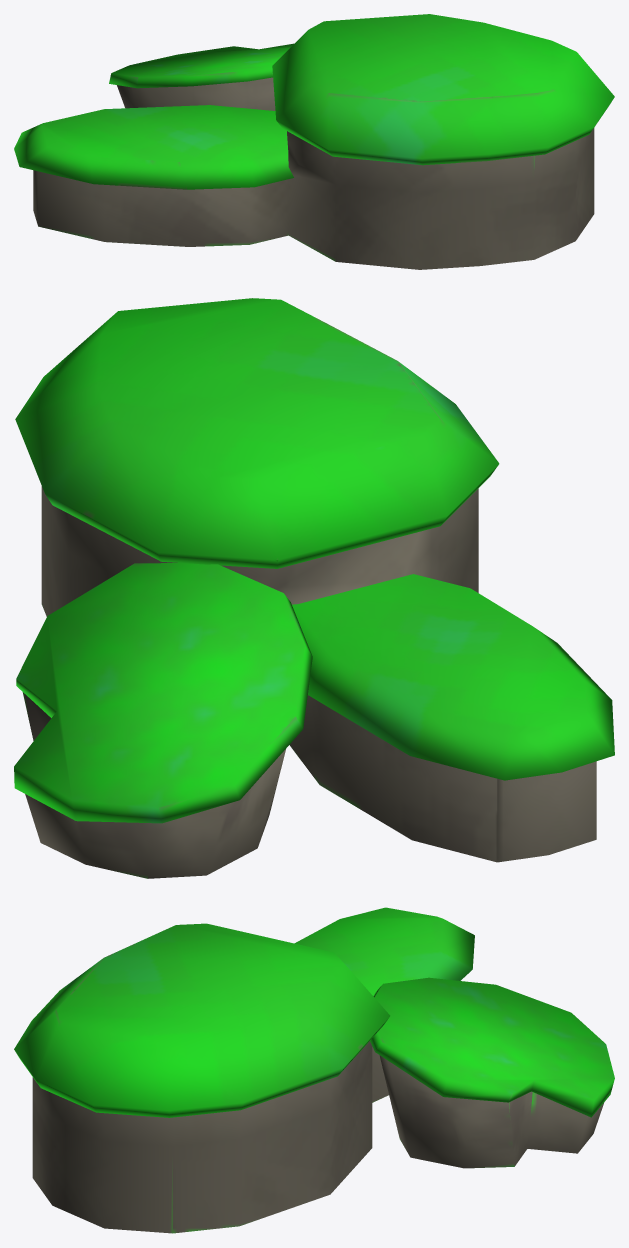
The model's file is fuck.glb.
3 renders of one model, top to bottom at view 1: azimuth 30°, elevation 25°; view 2: azimuth 150°, elevation 25°; view 3: azimuth 270°, elevation 25°, orthographic. The views are drawn at different scales.
Parts seen in each view (by area): view 1: Cliff.07; view 2: Cliff.07; view 3: Cliff.07.
Part boxes in pixels (left/top/right/bottom): Cliff.07: left=14, top=14, right=614, bottom=269; Cliff.07: left=14, top=298, right=614, bottom=878; Cliff.07: left=14, top=907, right=614, bottom=1233.
Size of the model in its own units: 7.68 by 2.58 by 7.53.
1 material, 1 textured.
